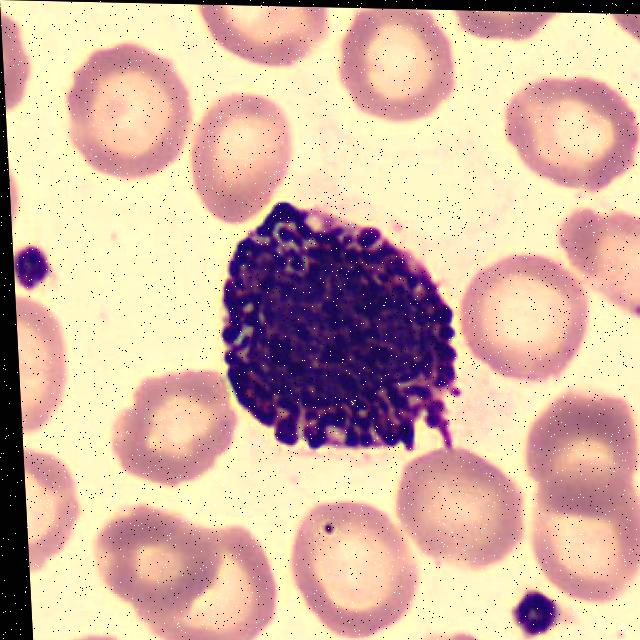basophil: (212, 200, 476, 460)
platelets: (504, 590, 575, 640), (13, 242, 66, 303)
rbc: (281, 499, 424, 640), (58, 53, 210, 184), (134, 517, 295, 640), (92, 359, 237, 486), (394, 450, 536, 577), (463, 248, 600, 377), (504, 79, 637, 203), (526, 467, 640, 602), (336, 8, 466, 126), (191, 90, 304, 223), (86, 506, 225, 614), (518, 378, 640, 498), (553, 195, 640, 327), (189, 4, 338, 76), (15, 298, 78, 440), (447, 10, 561, 64), (0, 9, 40, 118), (595, 13, 640, 66)
